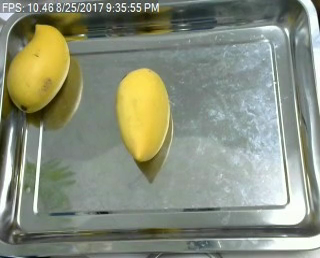Mango: (7, 14, 77, 119), (109, 60, 178, 163)
